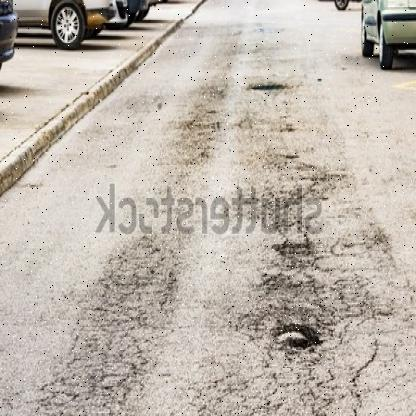pothole: (263, 297, 335, 369)
